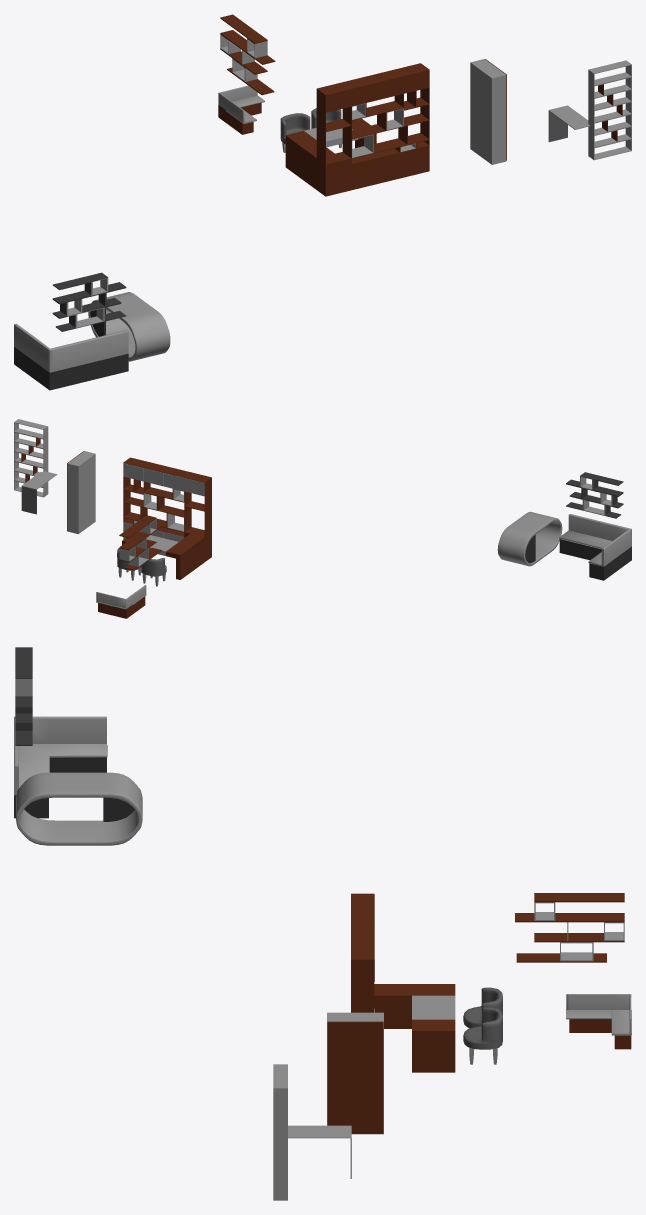
File: Oficinas.FBX
3 views of the same model, one above another, from view 1: azimuth 30°, elevation 25°; view 2: azimuth 150°, elevation 25°; view 3: azimuth 270°, elevation 25° (orthographic). The views are drawn at different scales.
Visible parts, largest first — view 1: Repisa_Desk_Of_Rogelio, SillonAlma13, Repisa_Escrotorio_Of_Karina, Alacena_Of_Karina, MesaAlma, Repisa_Of_Rogelio, EstanteAlma, Sillon_Of_Rogelio, fnt_sillaoficina_b001; view 2: Repisa_Desk_Of_Rogelio, SillonAlma13, MesaAlma, Repisa_Escrotorio_Of_Karina, Alacena_Of_Karina, EstanteAlma, Repisa_Of_Rogelio, Sillon_Of_Rogelio, fnt_sillaoficina_b001; view 3: Repisa_Desk_Of_Rogelio, MesaAlma, Alacena_Of_Karina, SillonAlma13, Repisa_Of_Rogelio, Repisa_Escrotorio_Of_Karina, Sillon_Of_Rogelio, EstanteAlma, fnt_sillaoficina_b, fnt_sillaoficina_b001.
Part boxes in pixels (box(x1,y1,x2,y2)): Repisa_Desk_Of_Rogelio: box(285, 63, 429, 196); SillonAlma13: box(14, 323, 128, 390); Repisa_Escrotorio_Of_Karina: box(548, 60, 631, 160); Alacena_Of_Karina: box(470, 59, 506, 164); MesaAlma: box(88, 292, 170, 361); Repisa_Of_Rogelio: box(220, 14, 275, 95); EstanteAlma: box(52, 272, 126, 331); Sillon_Of_Rogelio: box(218, 85, 264, 134); fnt_sillaoficina_b001: box(280, 113, 310, 152); Repisa_Desk_Of_Rogelio: box(122, 457, 211, 579); SillonAlma13: box(559, 514, 631, 580); MesaAlma: box(497, 511, 562, 566); Repisa_Escrotorio_Of_Karina: box(14, 419, 57, 514); Alacena_Of_Karina: box(67, 451, 95, 534); EstanteAlma: box(566, 472, 623, 518); Repisa_Of_Rogelio: box(119, 515, 162, 570); Sillon_Of_Rogelio: box(96, 585, 146, 618); fnt_sillaoficina_b001: box(141, 558, 166, 586); Repisa_Desk_Of_Rogelio: box(351, 893, 455, 1072); MesaAlma: box(16, 772, 142, 845); Alacena_Of_Karina: box(327, 1012, 383, 1134); SillonAlma13: box(14, 716, 107, 818); Repisa_Of_Rogelio: box(515, 893, 624, 962); Repisa_Escrotorio_Of_Karina: box(273, 1064, 351, 1200); Sillon_Of_Rogelio: box(566, 994, 631, 1049); EstanteAlma: box(15, 647, 32, 745); fnt_sillaoficina_b: box(463, 1007, 502, 1064); fnt_sillaoficina_b001: box(463, 987, 502, 1028).
Bounding box in the file's own units: 1787 × 256 × 1079.
